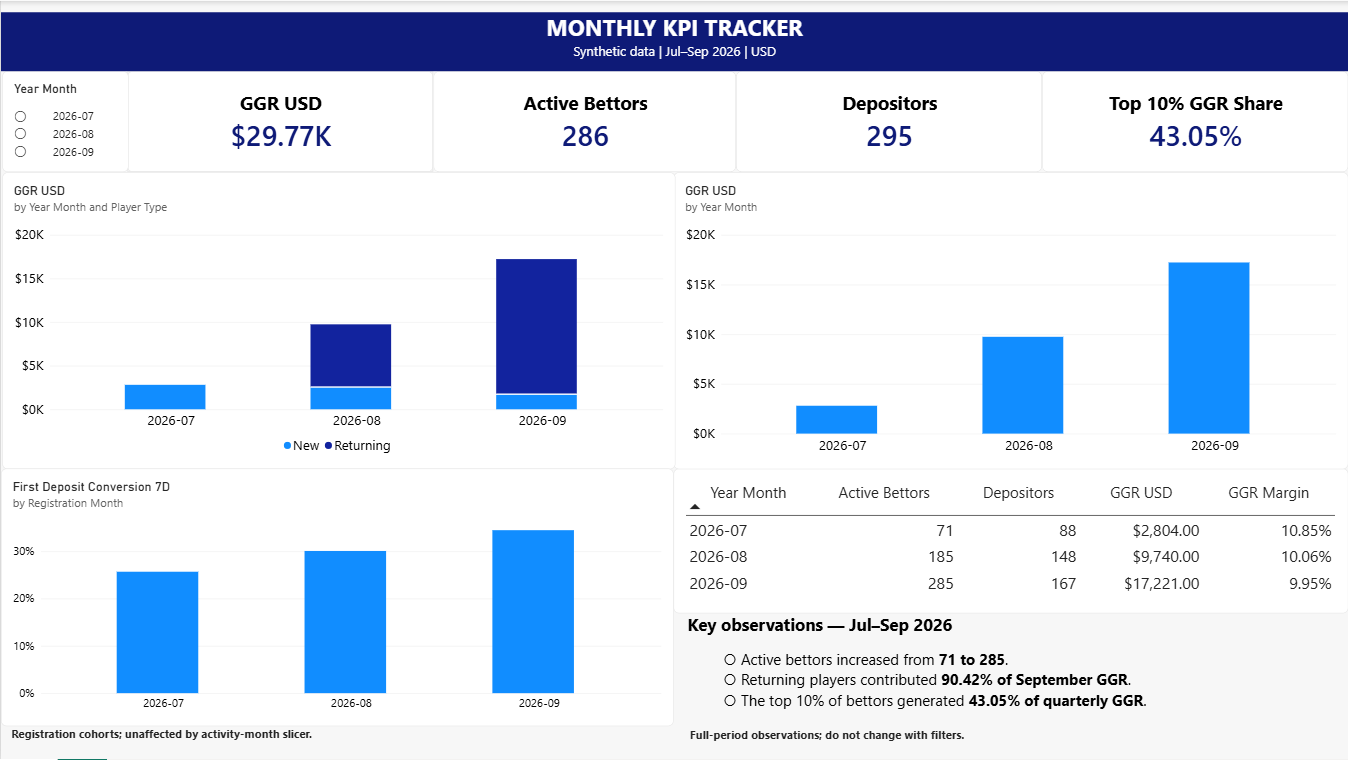

What the dashboard file says about the page in this screenshot:
{"tool":"powerbi","page":{"name":"Page 1","canvas":[1920,1080],"ordinal":0},"visuals":[{"type":"tableEx","fields":{"Values":["Calendar.Year Month","player_daily.Active Bettors","deposits.Depositors","player_daily.GGR USD","player_daily.GGR Margin"]},"box":[958.2,666.1,961.8,206.6],"z":0},{"type":"clusteredColumnChart","fields":{"Category":["Calendar.Year Month"],"Y":["player_daily.GGR USD"]},"box":[959.1,243.8,961.4,423.2],"z":1000},{"type":"cardVisual","fields":{"Data":["player_daily.Active Bettors"]},"box":[616.2,99.7,431,144.3],"z":2000},{"type":"cardVisual","fields":{"Data":["deposits.Depositors"]},"box":[1047.2,99.7,436.4,144.3],"z":3000},{"type":"cardVisual","fields":{"Data":["player_daily.GGR USD"]},"box":[179.9,99.7,436.4,144.3],"z":4000},{"type":"listSlicer","fields":{"Values":["Calendar.Year Month"]},"box":[1.8,99.7,179.9,144.3],"z":5000},{"type":"columnChart","fields":{"Category":["Calendar.Year Month"],"Series":["player_daily.Player Type"],"Y":["player_daily.GGR USD"]},"box":[2.3,243.8,959.1,423.2],"z":6000},{"type":"clusteredColumnChart","fields":{"Category":["players.Registration Month"],"Y":["players.First Deposit Conversion 7D"]},"box":[0,666.1,958.2,366.9],"z":7000},{"type":"cardVisual","fields":{"Data":["player_daily.Top 10% GGR Share"]},"box":[1483.6,99.7,436.4,144.3],"z":8000},{"type":"textbox","box":[0,16,1920,83.7],"z":9000},{"type":"textbox","box":[1.8,1033,956.4,46.3],"z":9001},{"type":"textbox","box":[958.2,872.7,961.8,206.6],"z":9002}]}

Visuals, with their boxes in screenshot pixels (x1, y1, x2, y2), scaled from the page's 1920x1080 canvas onto the 1348x760 screenshot:
tableEx - Calendar.Year Month x player_daily.Active Bettors: 673:469:1347:614
clusteredColumnChart - Calendar.Year Month x player_daily.GGR USD: 673:172:1347:469
cardVisual - player_daily.Active Bettors: 433:70:735:172
cardVisual - deposits.Depositors: 735:70:1042:172
cardVisual - player_daily.GGR USD: 126:70:433:172
listSlicer - Calendar.Year Month: 1:70:128:172
columnChart - Calendar.Year Month x player_daily.Player Type: 2:172:675:469
clusteredColumnChart - players.Registration Month x players.First Deposit Conversion 7D: 0:469:673:727
cardVisual - player_daily.Top 10% GGR Share: 1042:70:1347:172
textbox: 0:11:1347:70
textbox: 1:727:673:759
textbox: 673:614:1347:759
